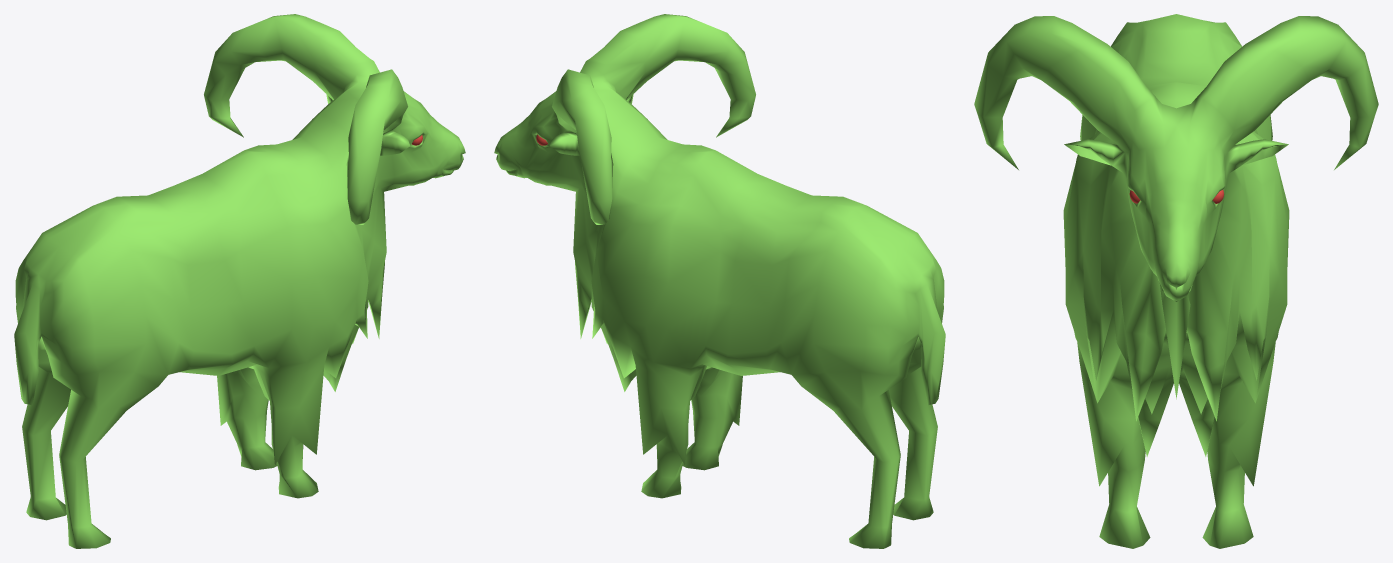
The model's file is lammasnyt.fbx.
3 views of the same model, side by side, from view 1: azimuth 30°, elevation 25°; view 2: azimuth 150°, elevation 25°; view 3: azimuth 270°, elevation 25° (orthographic). The views are drawn at different scales.
Parts seen in each view (by area): view 1: lammas; view 2: lammas; view 3: lammas.
Part boxes in pixels (<box>): lammas: <box>14,14,465,548</box>; lammas: <box>494,14,945,548</box>; lammas: <box>974,14,1378,548</box>.
Bounding box in the file's own units: 409 × 361 × 242.
